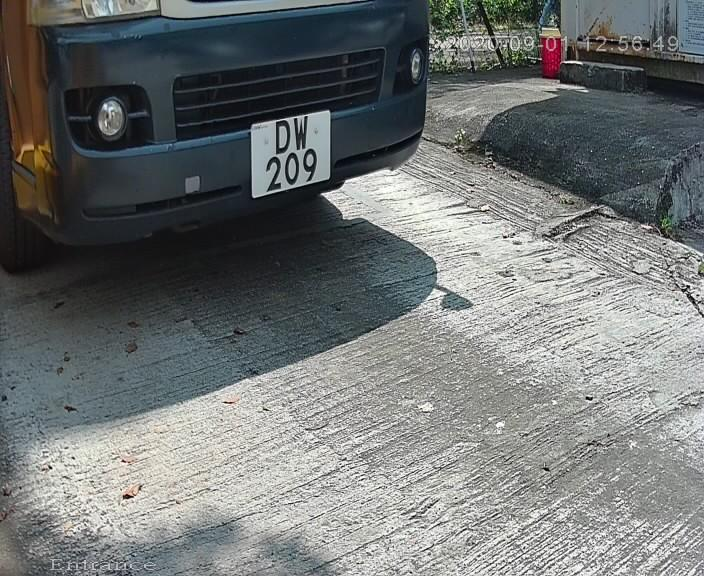Car: (13, 1, 491, 312)
License Plate: (233, 103, 340, 206)
